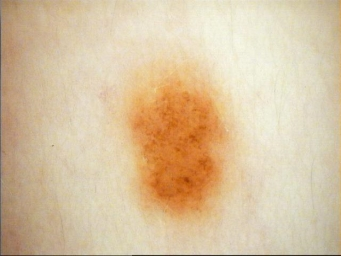nevus: (135, 86, 225, 214)
